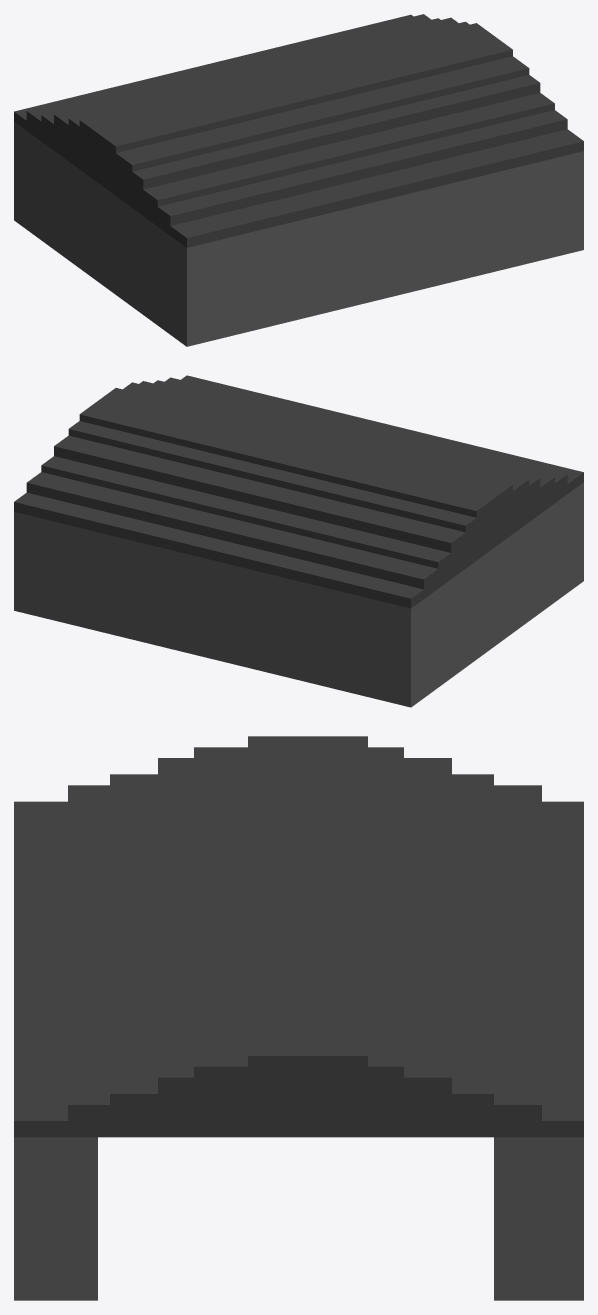
Rendered from Hangar_withoutDoors.obj.
The picture shows the model from 3 angles, top to bottom: view 1: azimuth 30°, elevation 25°; view 2: azimuth 150°, elevation 25°; view 3: azimuth 270°, elevation 25°; orthographic projection. The views are drawn at different scales.
Size of the model in its own units: 126 by 45 by 95.
